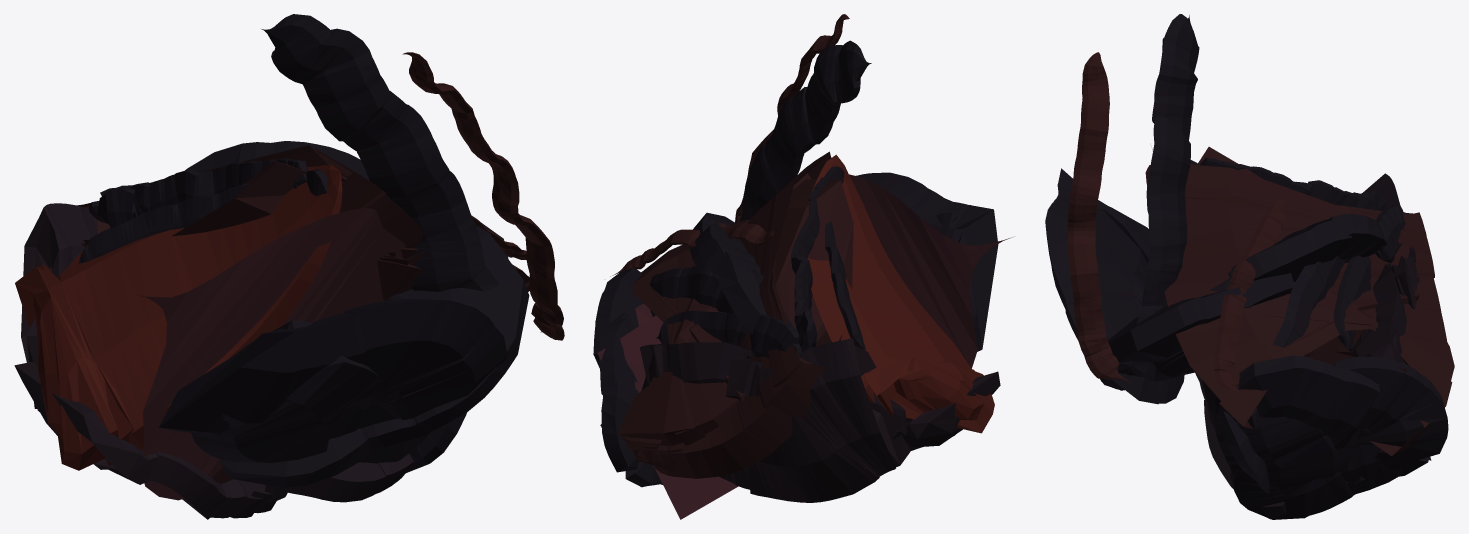
Rendered from Stone_World2_05.fbx.
3 views of the same model, side by side, from view 1: azimuth 30°, elevation 25°; view 2: azimuth 150°, elevation 25°; view 3: azimuth 270°, elevation 25° (orthographic). The views are drawn at different scales.
Visible parts, largest first — view 1: NewLayer4; view 2: NewLayer4; view 3: NewLayer4.
Part boxes in pixels (x1=…): NewLayer4: x1=14, y1=14, x2=564, y2=519; NewLayer4: x1=593, y1=14, x2=1012, y2=519; NewLayer4: x1=1045, y1=14, x2=1454, y2=519.
Size of the model in its own units: 0.2109 by 0.2257 by 0.1896.
